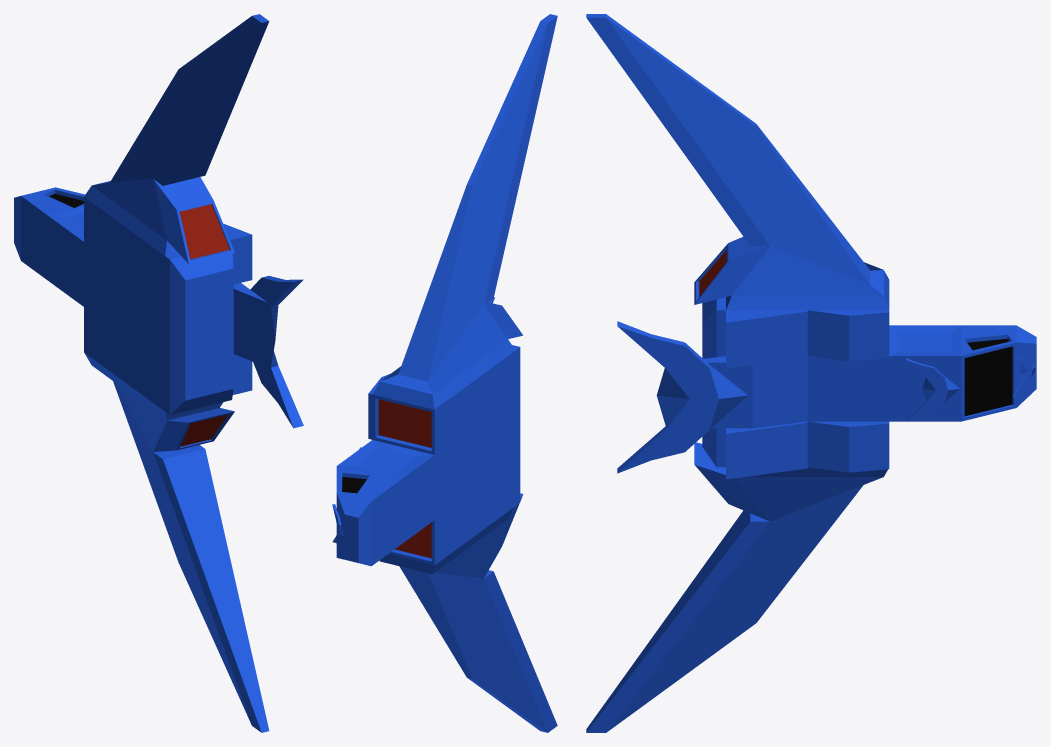
The model's file is Jogador.fbx.
3 views of the same model, side by side, from view 1: azimuth 30°, elevation 25°; view 2: azimuth 150°, elevation 25°; view 3: azimuth 270°, elevation 25° (orthographic).
Parts seen in each view (by area): view 1: Jogador; view 2: Jogador; view 3: Jogador.
Part boxes in pixels (x1,y1,x2,y2): Jogador: (14,14,303,732); Jogador: (332,14,557,732); Jogador: (586,14,1036,732).
Bounding box in the file's own units: 810 × 104 × 462.
